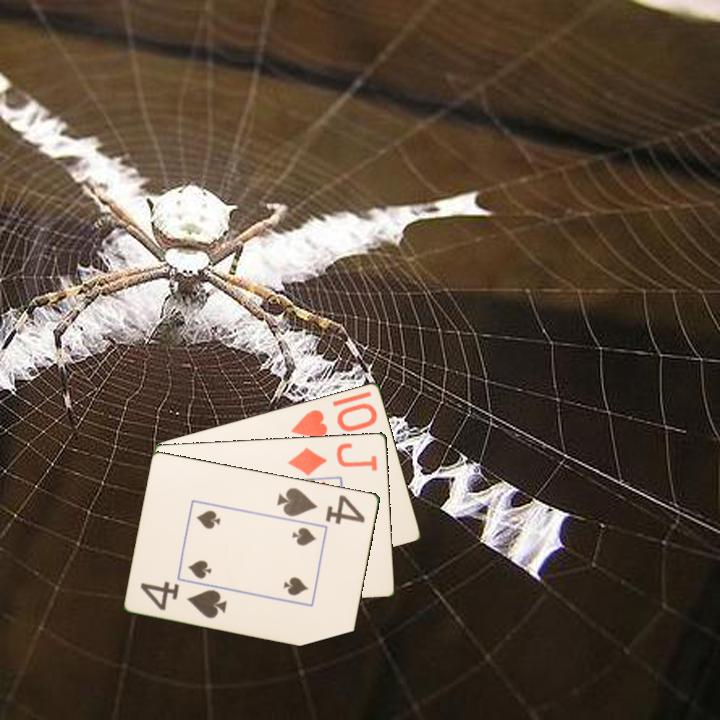10h: (287, 399, 381, 441)
4s: (274, 484, 368, 527), (137, 578, 230, 621)
Jd: (284, 439, 381, 478)
